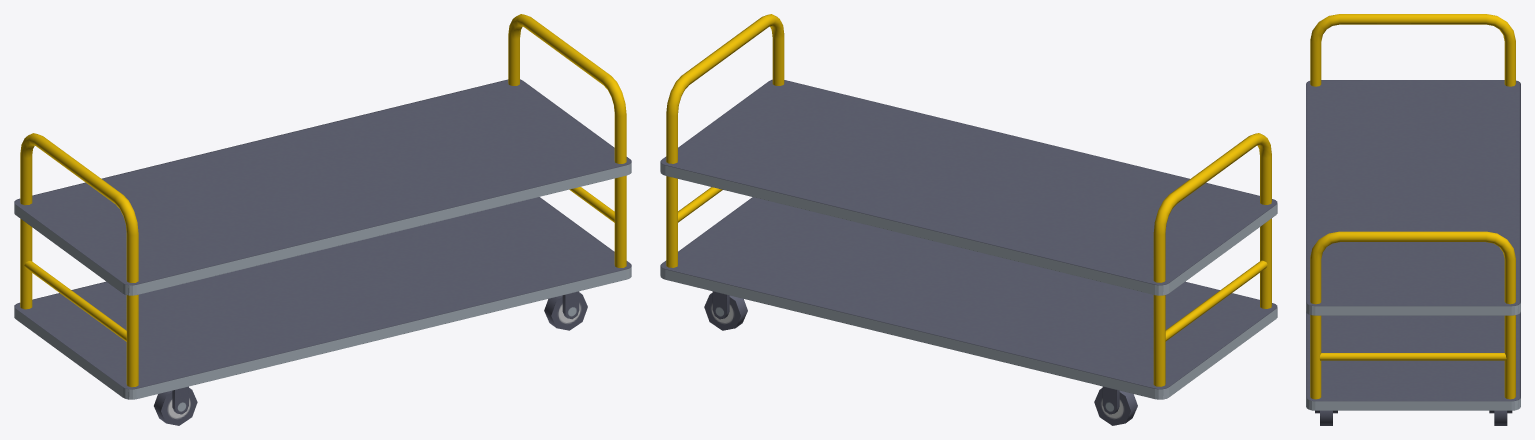
The model's file is Char_Double_01.FBX.
The picture shows the model from 3 angles, left to right: view 1: azimuth 30°, elevation 25°; view 2: azimuth 150°, elevation 25°; view 3: azimuth 270°, elevation 25°; orthographic projection. The views are drawn at different scales.
Visible parts, largest first — view 1: Char_Double_01; view 2: Char_Double_01; view 3: Char_Double_01.
Part boxes in pixels (bbox=[...]): Char_Double_01: bbox=[14, 14, 631, 425]; Char_Double_01: bbox=[660, 14, 1277, 425]; Char_Double_01: bbox=[1306, 14, 1520, 425].
Bounding box in the file's own units: 2.6 × 1.15 × 1.04.
